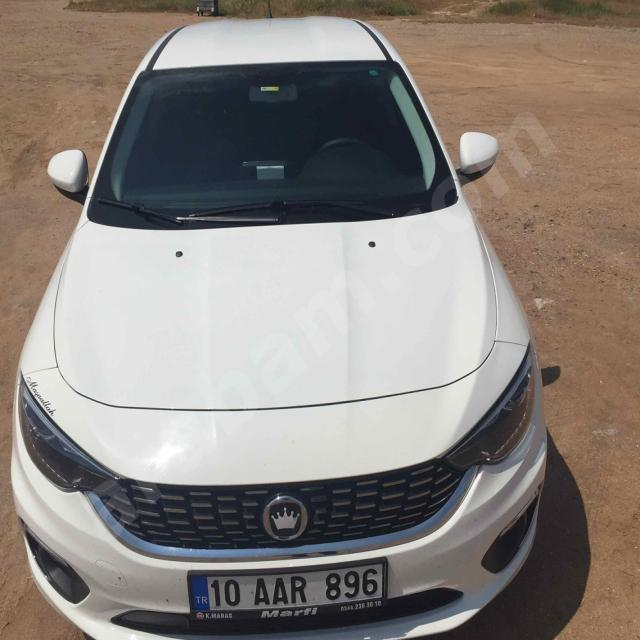license_plate: (190, 562, 386, 612)
